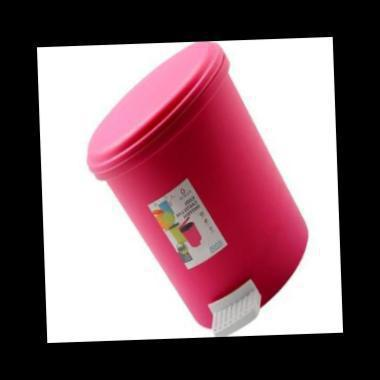Bote de Basura: (79, 38, 313, 339)
